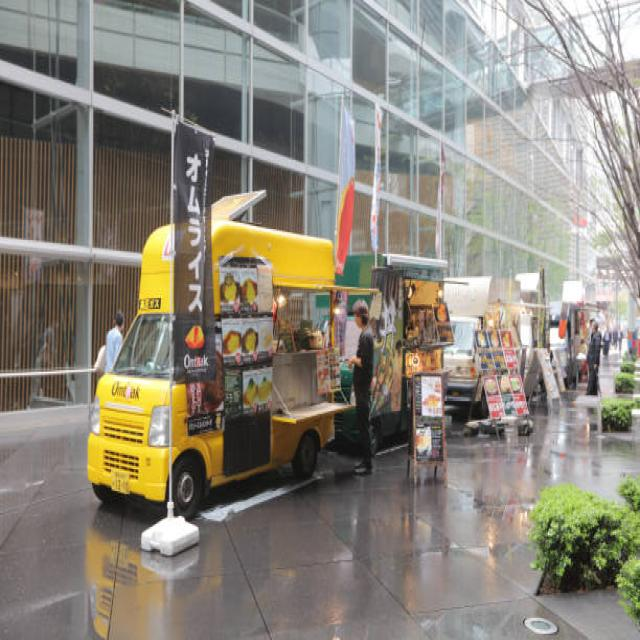Emperan: (84, 216, 383, 529), (325, 250, 467, 478)
